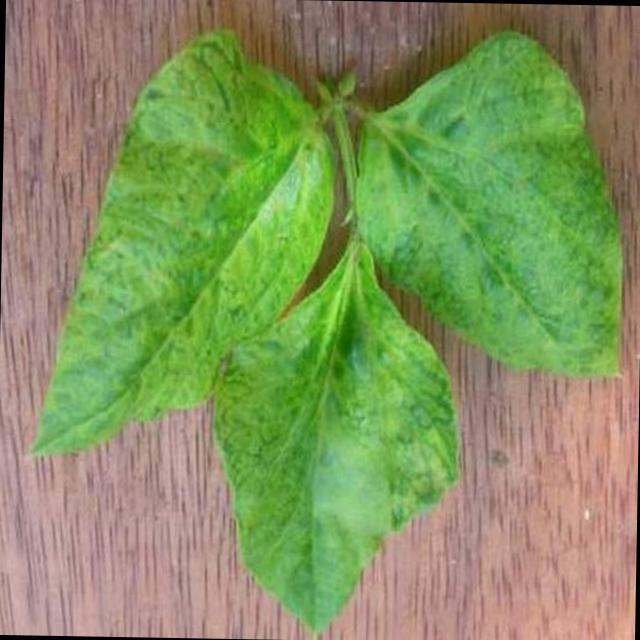Mosaic Virus: (0, 32, 333, 461), (355, 42, 627, 380), (223, 274, 468, 640)
